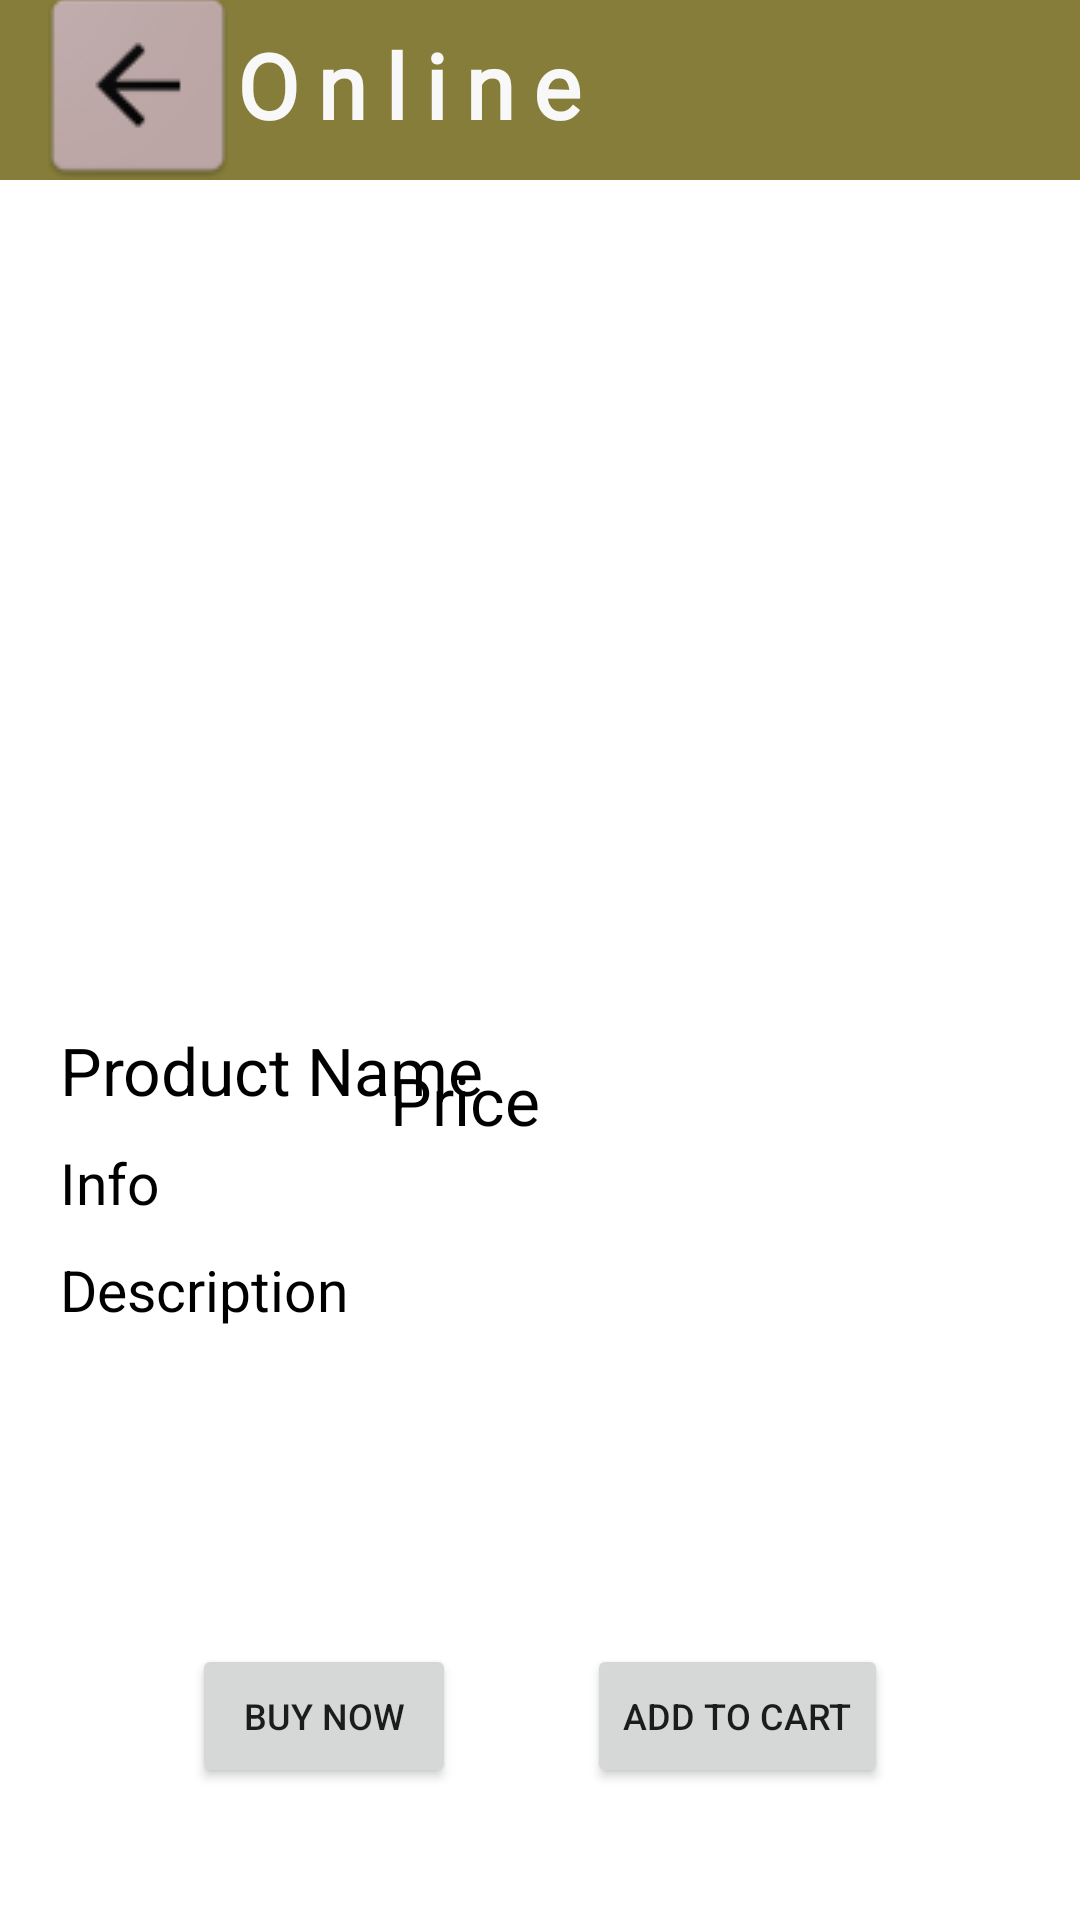

Where to tap for icons on this 1080x1920 app screen, as (x,y):
back: (138,85)
